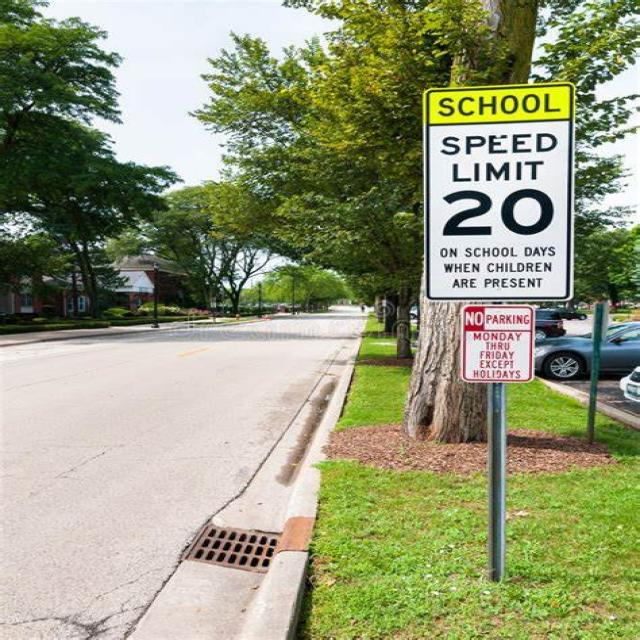speedLimit20: (428, 123, 570, 300)
